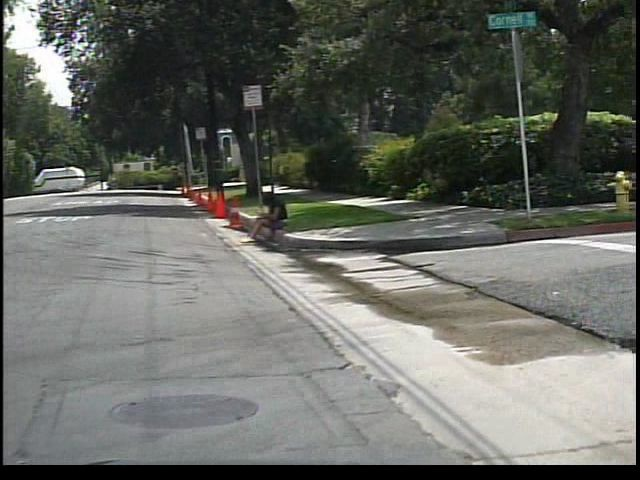person: (244, 191, 300, 246)
